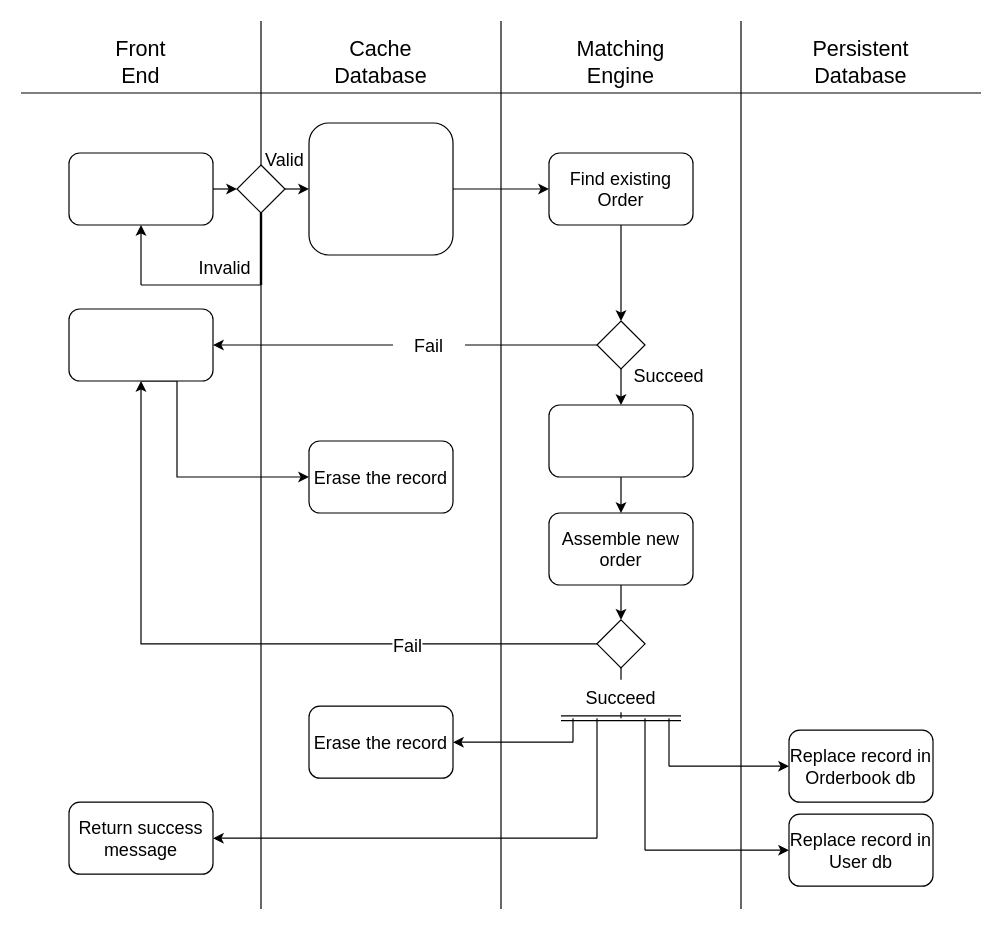
The diagram is 1003 pixels wide and 931 high, and some of its shapes have lost their labels. The centre of each missing label's shape, as x and y in pixels:
"Check modify item" goes at (620,440).
"Place a MODIFY order" goes at (140,188).
"Raise exception" goes at (140,344).
"Store command, quantity, symbol, price, stop price, modifyItem, orderId" goes at (380,188).
